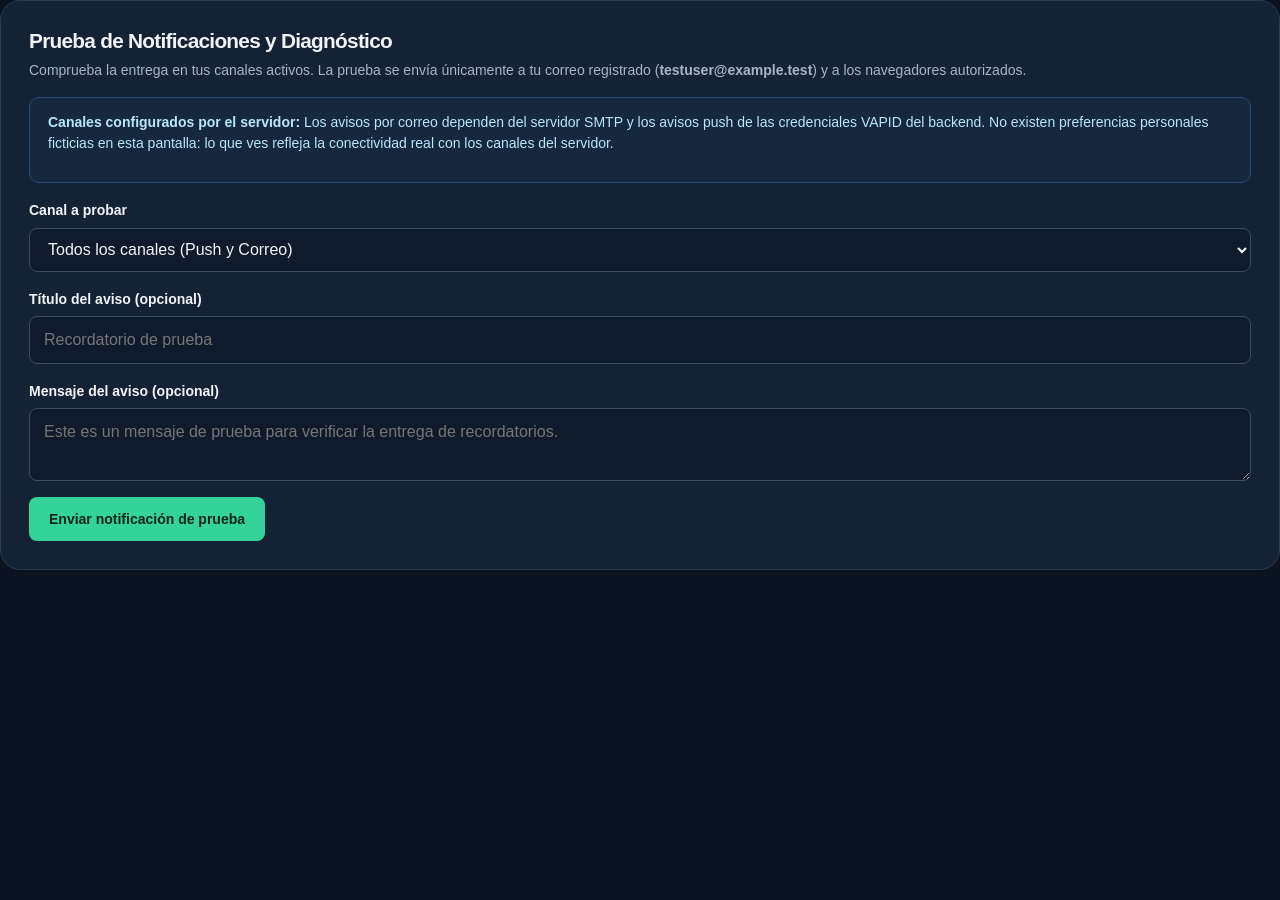
NotificationTestCard › sends test request and renders pushResult and emailResult
The image size is (1280, 900).
Click the button with test id "send-test-btn" at (147, 519), box x1=29 y1=497 x2=265 y2=541
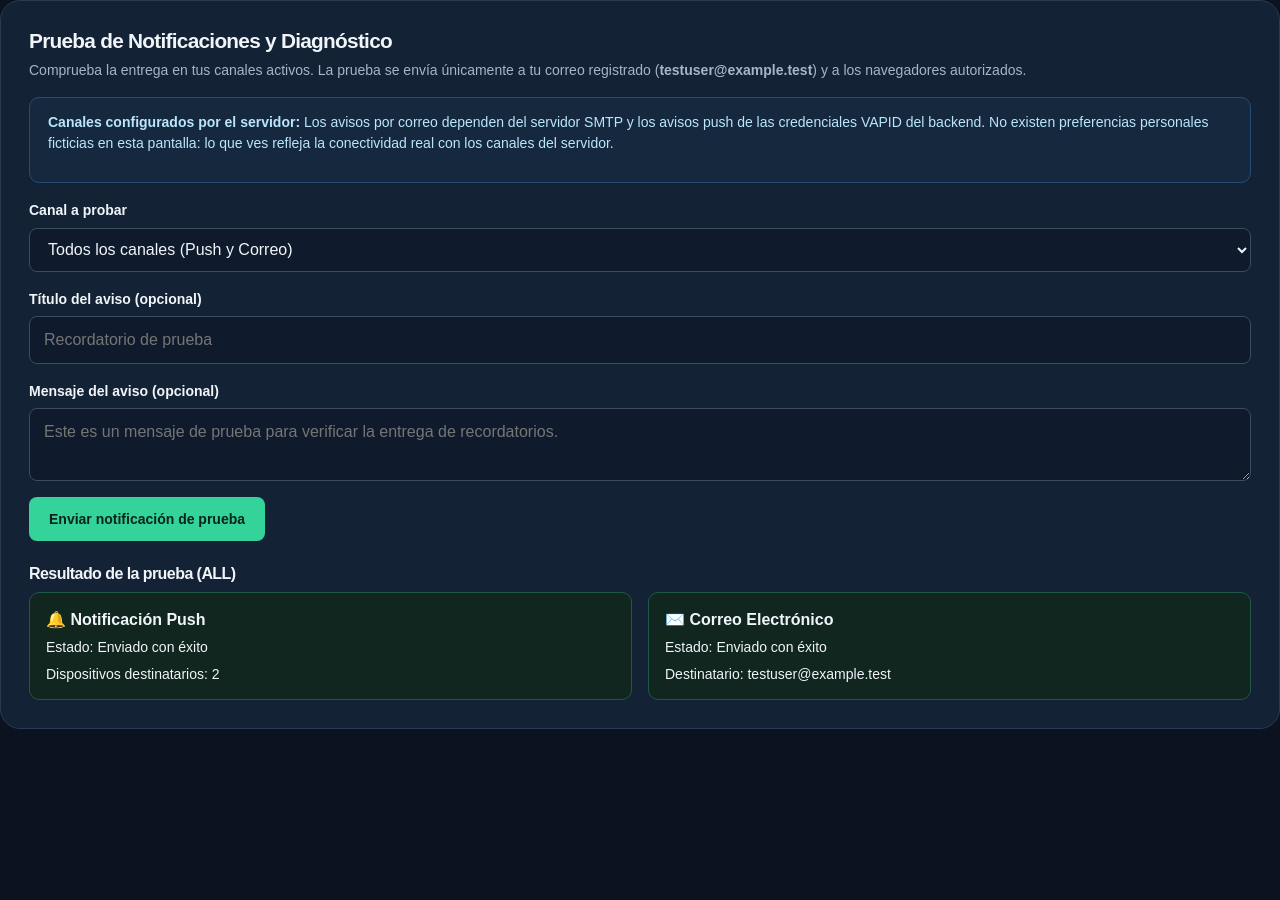
Now the element with test id "notification-test-results" is shown, box x1=29 y1=565 x2=1251 y2=700
Now the element with test id "push-result-box" is shown, box x1=29 y1=592 x2=632 y2=700
Now the text "Dispositivos destinatarios: 2" is shown, box x1=46 y1=666 x2=220 y2=682
